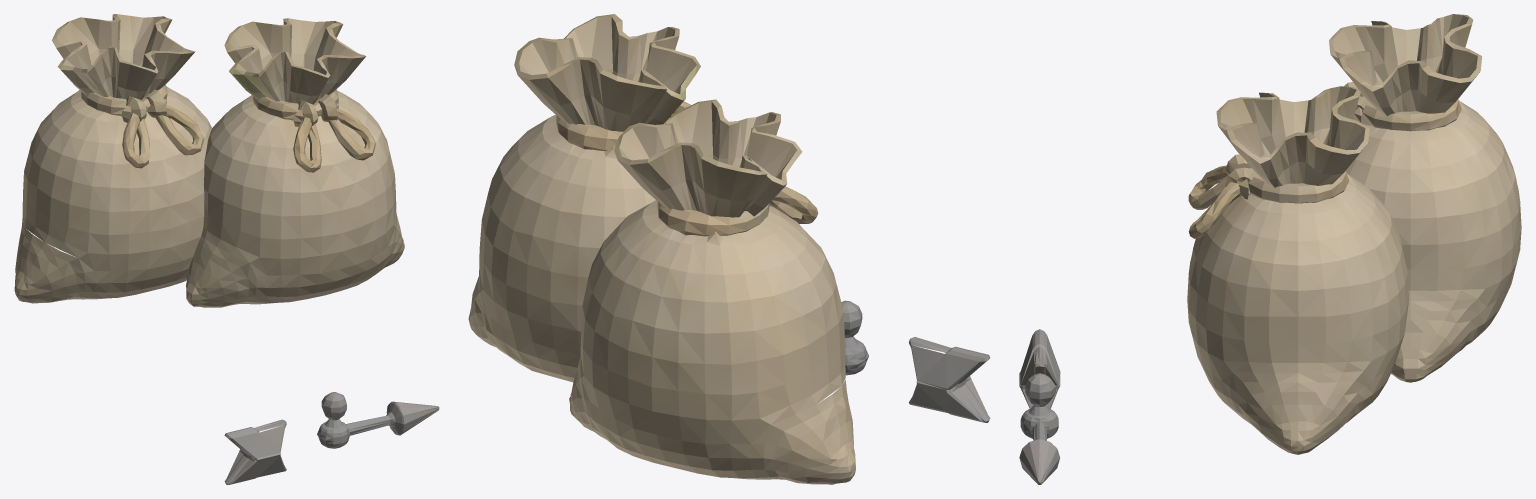
File: sacks2.glb
3 views of the same model, side by side, from view 1: azimuth 30°, elevation 25°; view 2: azimuth 150°, elevation 25°; view 3: azimuth 270°, elevation 25° (orthographic). The views are drawn at different scales.
Visible parts, largest first — view 1: geometry_0; view 2: geometry_0; view 3: geometry_0.
Boxes of the visible parts, <box> form: geometry_0: <box>14,14,439,484</box>; geometry_0: <box>468,14,990,484</box>; geometry_0: <box>1019,14,1521,484</box>.
Bounding box in the file's own units: 0.1548 × 0.1431 × 0.168.
